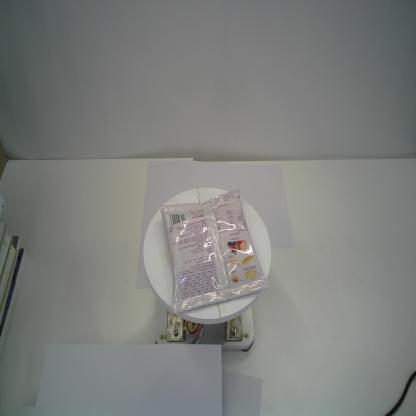Instant Drink: (160, 188, 269, 314)
